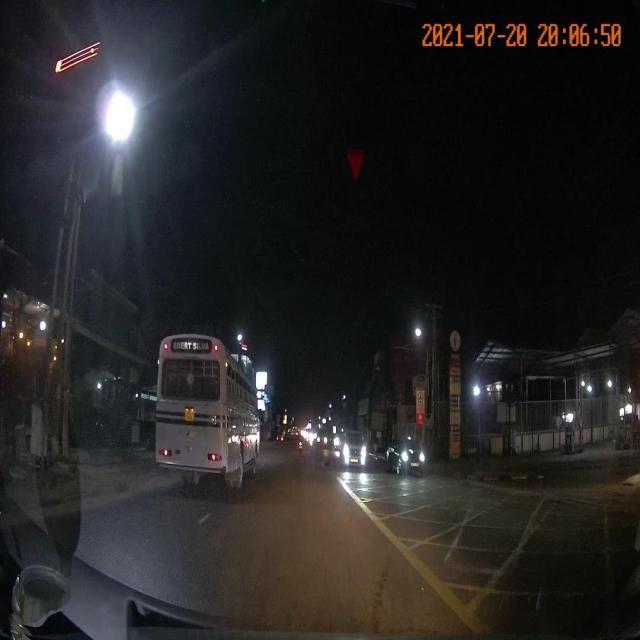Jeltaya razmetka: (332, 472, 637, 635)
